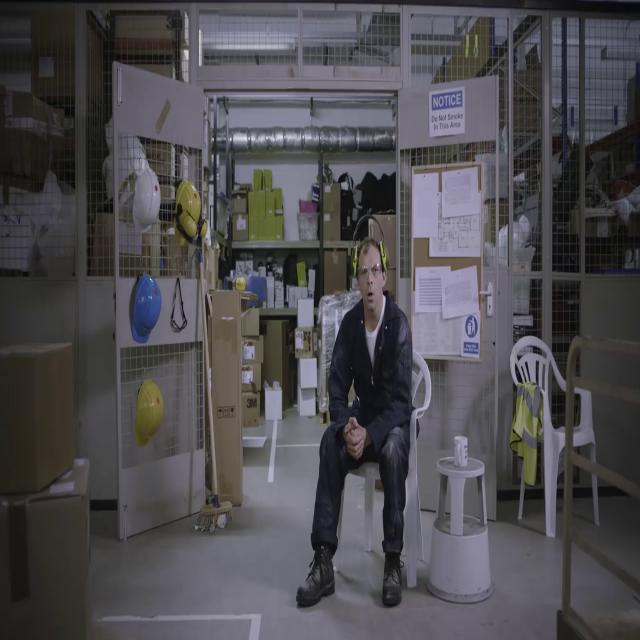earmuff: (346, 240, 359, 275), (378, 235, 390, 270), (184, 211, 198, 240), (235, 273, 248, 295), (200, 217, 210, 242)
glasses: (357, 264, 385, 282)
helmet: (134, 380, 165, 456), (130, 272, 162, 345), (174, 174, 202, 250), (131, 165, 161, 235)
